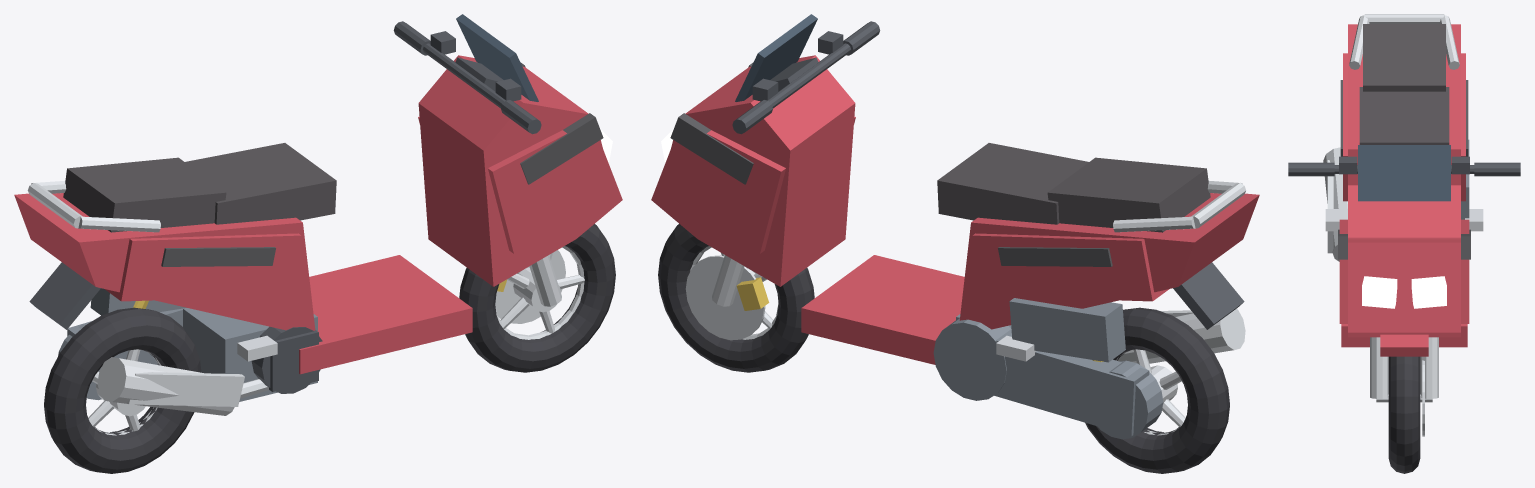
The model's file is honda-genio-cbs-cbs-iss.glb.
3 views of the same model, side by side, from view 1: azimuth 30°, elevation 25°; view 2: azimuth 150°, elevation 25°; view 3: azimuth 270°, elevation 25° (orthographic). The views are drawn at different scales.
Parts seen in each view (by area): view 1: Bodi_Utama, Roda_Ban, Jok_Motor, Cover_Knalpot, Aksen_Bodi, Master_Rem_Stang, Mesin_Blok, Velg_Roda, Cover_Radiator, Spakbor_Belakang, Windshield_Visor, Behel_Jok (+4 smaller); view 2: Bodi_Utama, Cover_CVT, Roda_Ban, Jok_Motor, Aksen_Bodi, Master_Rem_Stang, Piringan_Depan, Spakbor_Belakang, Windshield_Visor, Behel_Jok, Cover_Knalpot, Velg_Roda (+3 smaller); view 3: Bodi_Utama, Jok_Motor, Windshield_Visor, Roda_Ban, Master_Rem_Stang, Lampu_Depan, Suspensi_Depan, Behel_Jok, Cover_Knalpot, Spakbor_Depan, Aksen_Bodi, Footstep_Belakang (+1 smaller).
Boxes of the visible parts, left/top/right/bottom form: Bodi_Utama: left=14, top=55, right=622, bottom=374; Roda_Ban: left=44, top=224, right=615, bottom=473; Jok_Motor: left=63, top=143, right=336, bottom=232; Cover_Knalpot: left=97, top=357, right=268, bottom=415; Aksen_Bodi: left=161, top=62, right=603, bottom=266; Master_Rem_Stang: left=393, top=21, right=541, bottom=134; Mesin_Blok: left=183, top=308, right=317, bottom=401; Velg_Roda: left=88, top=246, right=584, bottom=435; Cover_Radiator: left=251, top=326, right=322, bottom=393; Spakbor_Belakang: left=29, top=262, right=100, bottom=329; Windshield_Visor: left=456, top=14, right=538, bottom=101; Behel_Jok: left=27, top=181, right=160, bottom=232; Bodi_Utama: left=651, top=55, right=1259, bottom=364; Cover_CVT: left=933, top=298, right=1163, bottom=439; Roda_Ban: left=658, top=224, right=1229, bottom=473; Jok_Motor: left=937, top=143, right=1210, bottom=232; Aksen_Bodi: left=670, top=62, right=1112, bottom=266; Master_Rem_Stang: left=732, top=21, right=880, bottom=134; Piringan_Depan: left=685, top=255, right=765, bottom=340; Spakbor_Belakang: left=1173, top=262, right=1244, bottom=329; Windshield_Visor: left=735, top=14, right=817, bottom=101; Behel_Jok: left=1113, top=181, right=1246, bottom=232; Cover_Knalpot: left=1118, top=309, right=1245, bottom=363; Velg_Roda: left=690, top=246, right=1185, bottom=435; Bodi_Utama: left=1339, top=24, right=1469, bottom=347; Jok_Motor: left=1359, top=24, right=1449, bottom=144; Windshield_Visor: left=1358, top=145, right=1450, bottom=201; Roda_Ban: left=1388, top=356, right=1420, bottom=473; Master_Rem_Stang: left=1288, top=156, right=1520, bottom=176; Lampu_Depan: left=1362, top=276, right=1446, bottom=308; Suspensi_Depan: left=1370, top=337, right=1438, bottom=402; Behel_Jok: left=1349, top=14, right=1459, bottom=69; Cover_Knalpot: left=1323, top=147, right=1347, bottom=261; Spakbor_Depan: left=1380, top=334, right=1428, bottom=356; Aksen_Bodi: left=1338, top=80, right=1470, bottom=259; Footstep_Belakang: left=1325, top=209, right=1483, bottom=231.
Bounding box in the file's own units: 1.72 × 1 × 0.7.
